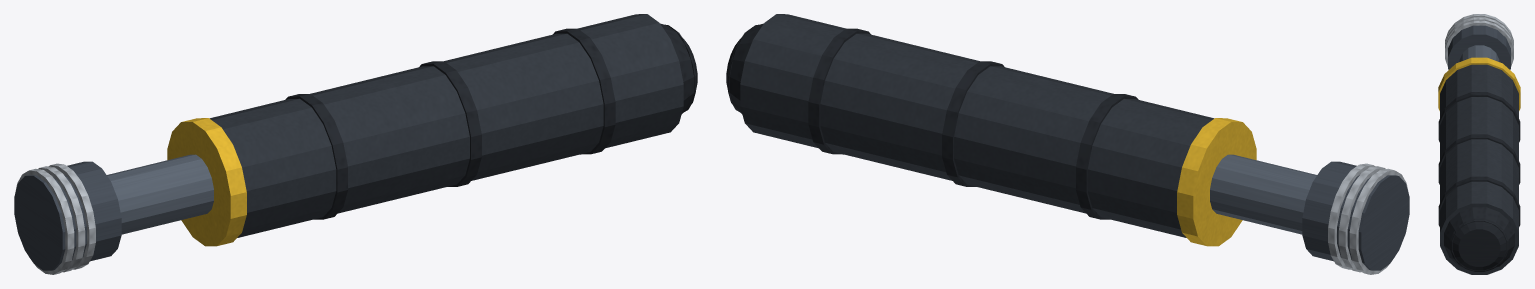
The model's file is barrel_suppressor_v2.glb.
3 renders of one model, left to right at view 1: azimuth 30°, elevation 25°; view 2: azimuth 150°, elevation 25°; view 3: azimuth 270°, elevation 25°, orthographic. The views are drawn at different scales.
Visible parts, largest first — view 1: barrel_suppressor_mesh; view 2: barrel_suppressor_mesh; view 3: barrel_suppressor_mesh.
Part boxes in pixels (left/top/right/bottom): barrel_suppressor_mesh: left=14, top=14, right=697, bottom=274; barrel_suppressor_mesh: left=726, top=14, right=1409, bottom=274; barrel_suppressor_mesh: left=1438, top=14, right=1520, bottom=274.
Size of the model in its own units: 0.2405 by 0.0412 by 0.0412.
7 materials, 7 textured.
